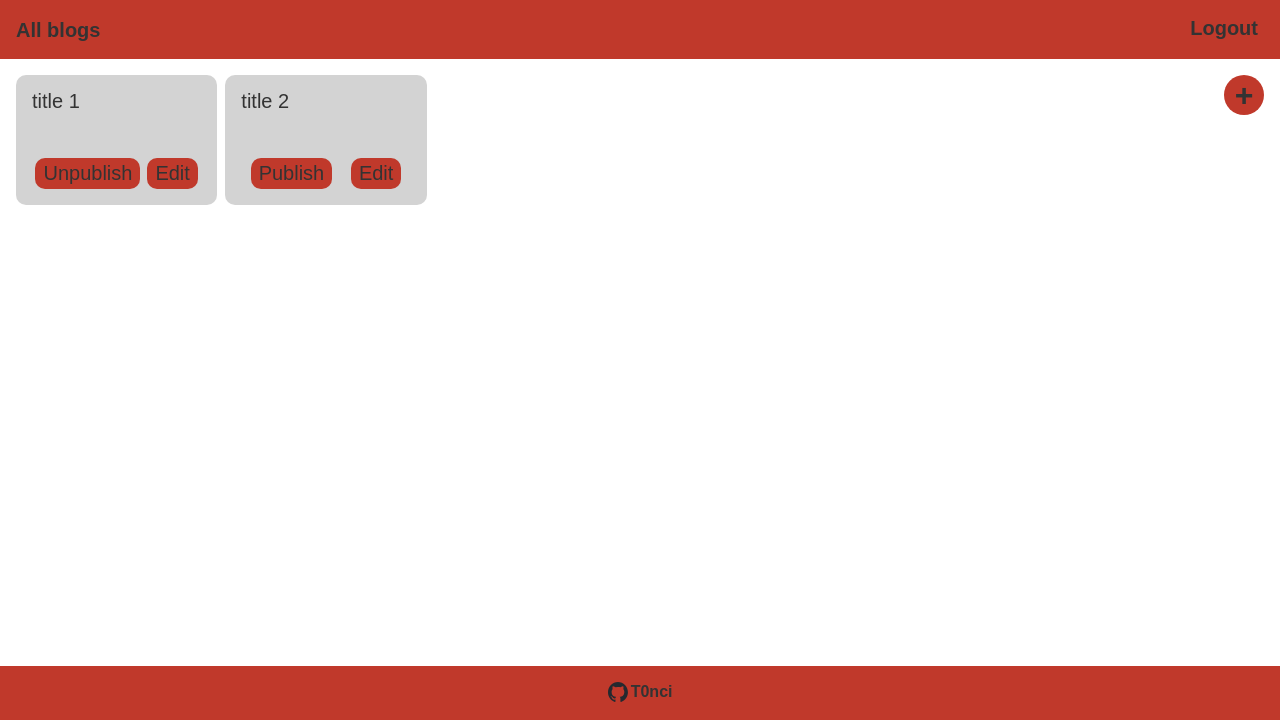
Test: Blogs Component › publishes and unpublishes a blog
Click the button "Unpublish" at (88, 174), box left=36, top=158, right=140, bottom=189
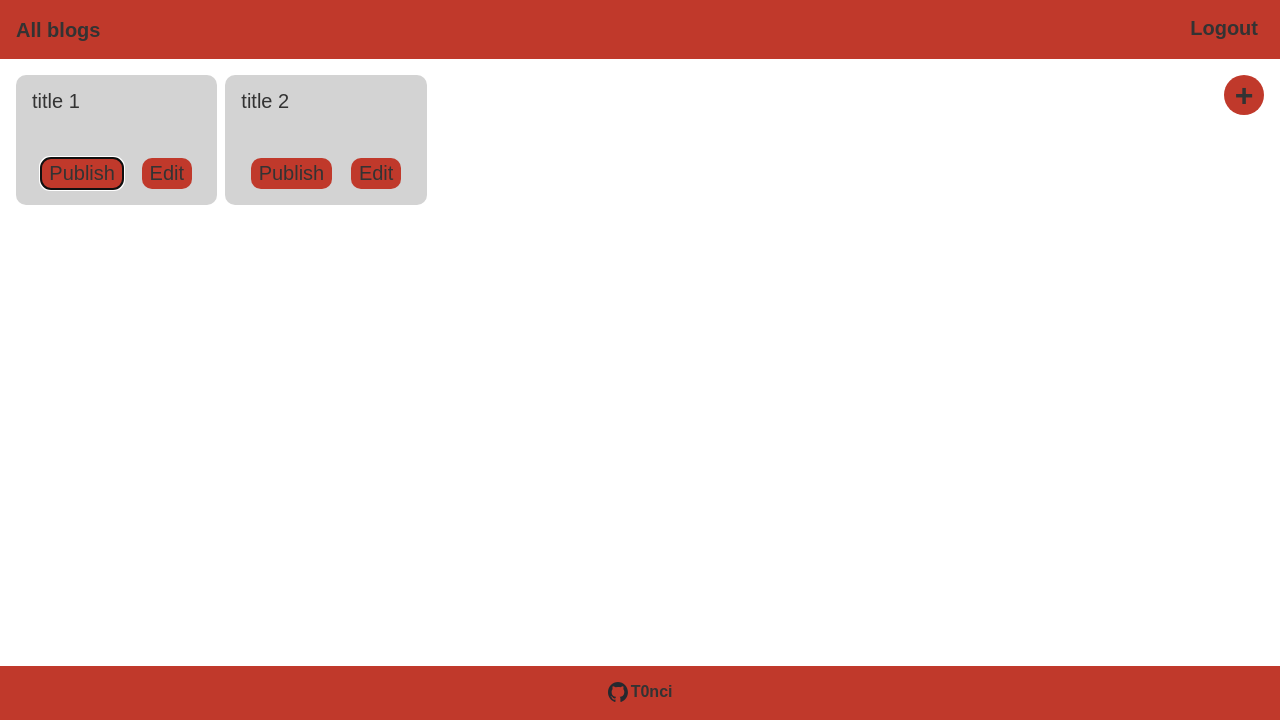
Click the button "Publish" below "title 2" at (291, 174), box left=251, top=158, right=332, bottom=189
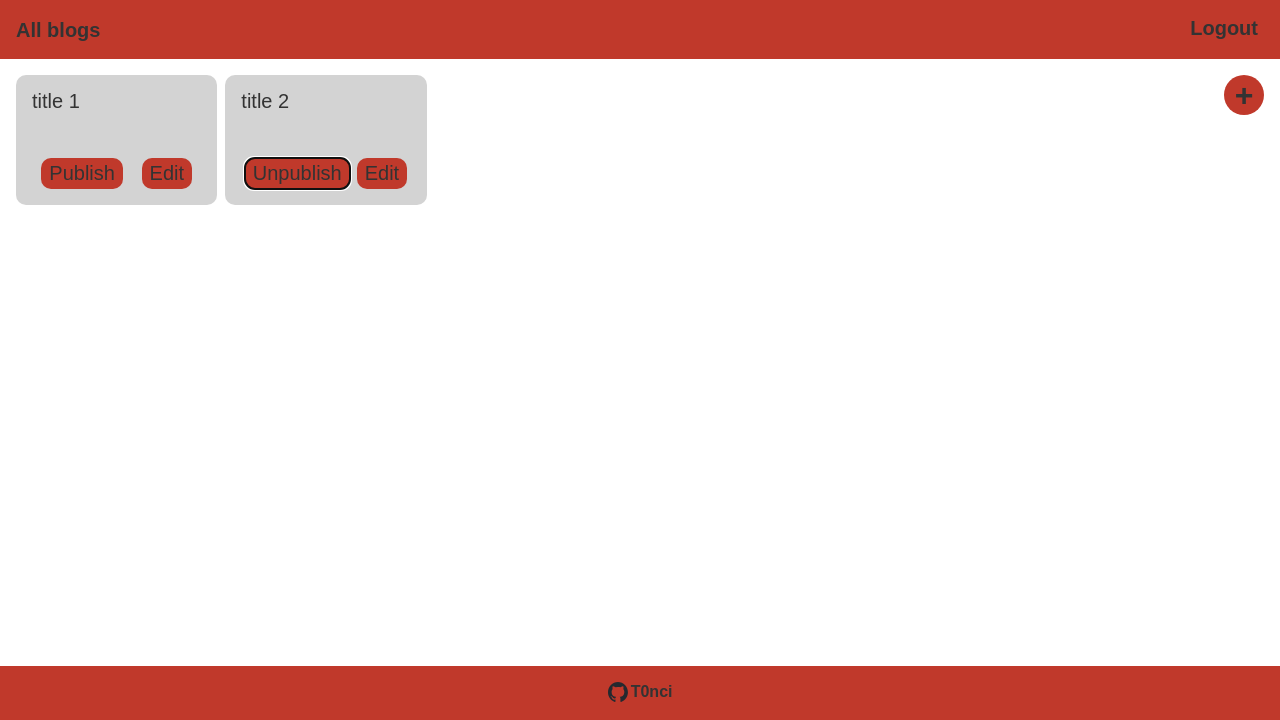
Now the button named "Unpublish" reads "Publish", box left=41, top=158, right=123, bottom=189
Now the button "Unpublish" is shown, box left=245, top=158, right=350, bottom=189
